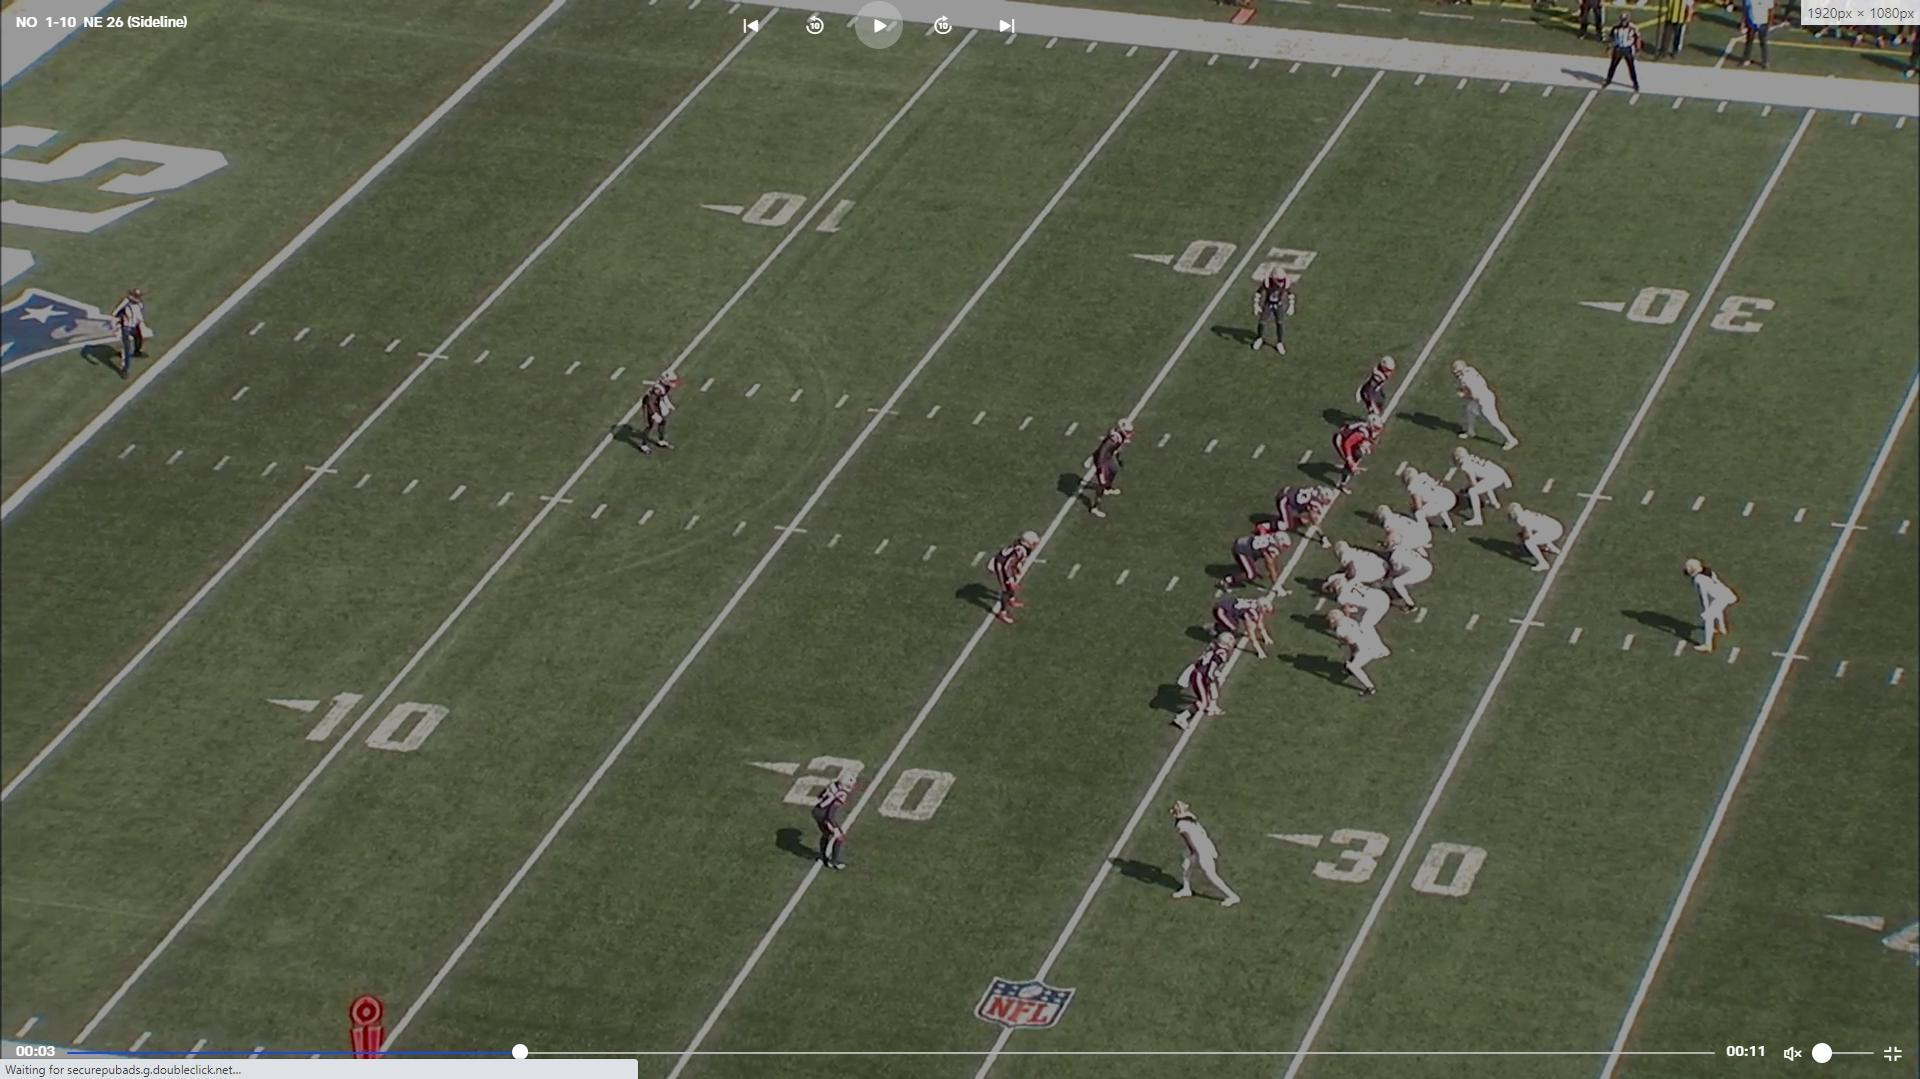defense: (1168, 636, 1236, 734), (809, 766, 864, 882), (1077, 417, 1137, 523), (1259, 486, 1341, 552), (1201, 593, 1284, 657), (992, 528, 1045, 627), (1249, 257, 1300, 358), (1220, 530, 1296, 597), (632, 369, 685, 459), (1323, 416, 1381, 494), (1357, 355, 1401, 440)
oline: (1327, 610, 1389, 702), (1397, 463, 1457, 538), (1330, 574, 1393, 638), (1333, 541, 1394, 590), (1374, 505, 1431, 555)
qb: (1386, 537, 1437, 618)
ref: (110, 288, 153, 383), (1598, 15, 1646, 98)
skill: (1158, 796, 1243, 911), (1448, 359, 1521, 455), (1684, 556, 1741, 655), (1454, 447, 1516, 528), (1506, 503, 1565, 574)
